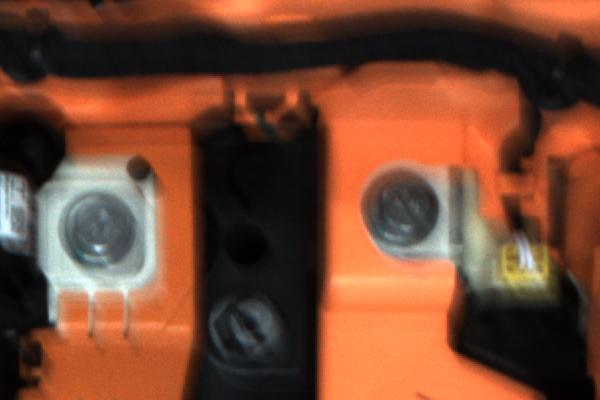nut_b: (350, 165, 436, 254), (57, 188, 145, 274)
